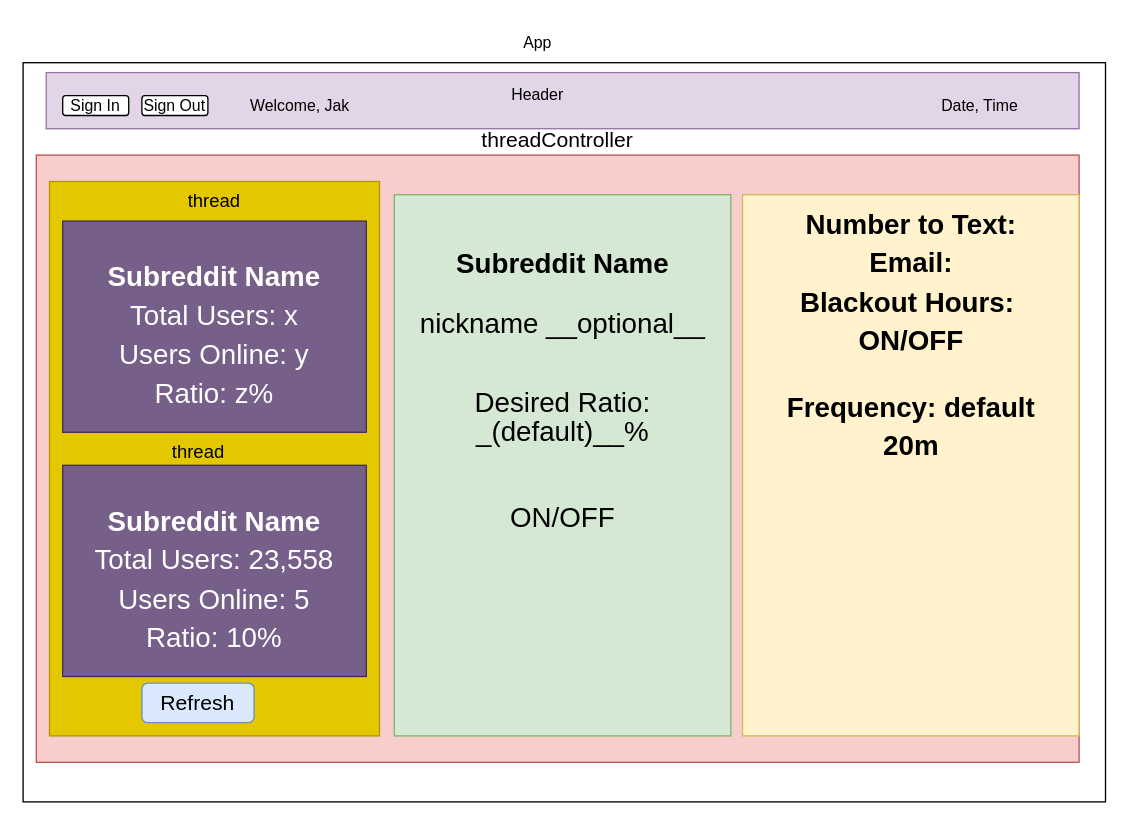
This 1129x825 diagram has some shape labels left out. The box of each missing label's shape, as (x1, y1, x2, y2) in pixels:
notifications: (741, 193, 1079, 736)
threadDetail/Edit: (393, 193, 731, 736)
threadList: (48, 180, 380, 736)
